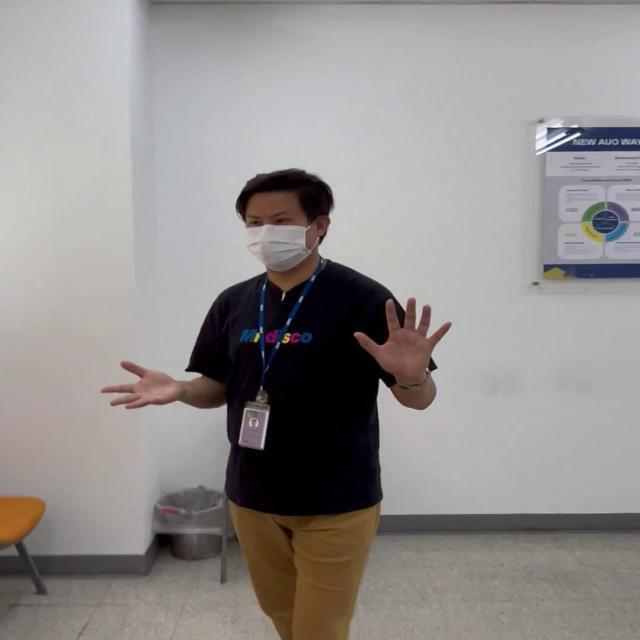bare_hand: (353, 294, 450, 380), (101, 358, 185, 414)
